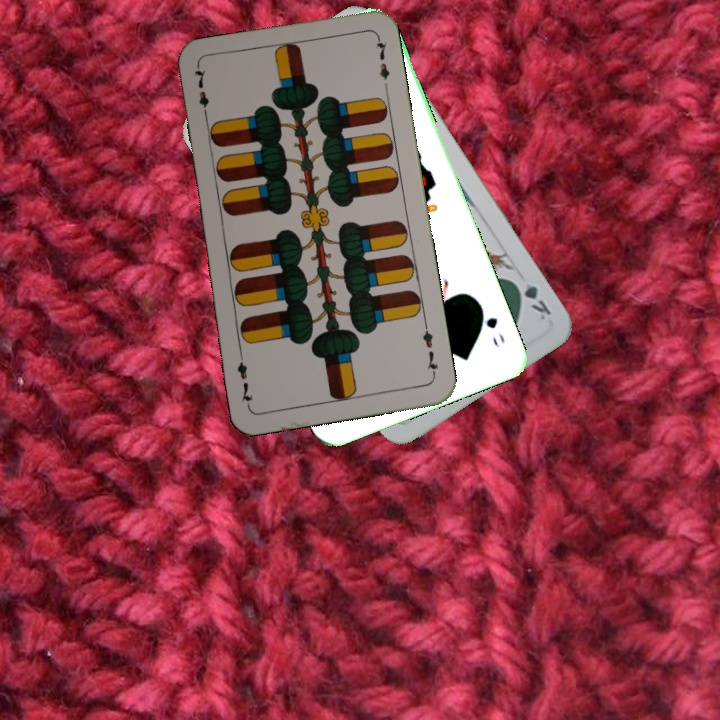E7: (418, 320, 441, 379), (191, 64, 212, 123)
GK: (508, 276, 554, 323)
GO: (475, 299, 508, 350)
